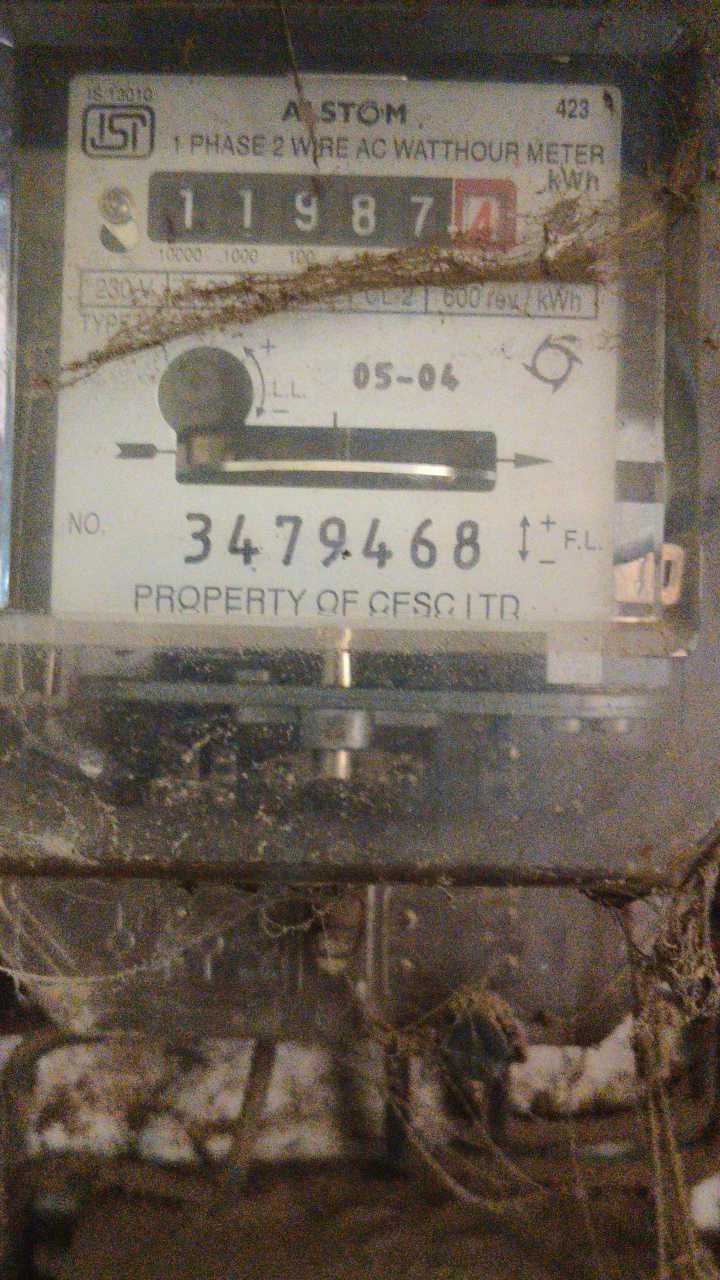meter_readings: (157, 177, 511, 246)
serial_number: (180, 512, 490, 575)
